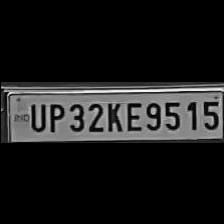1: (182, 96, 198, 130)
2: (84, 98, 104, 132)
3: (64, 99, 84, 131)
5: (160, 96, 182, 130), (198, 95, 220, 129)
9: (142, 97, 162, 129)
E: (122, 97, 142, 131)
K: (104, 98, 122, 132)
P: (44, 100, 64, 132)
U: (25, 99, 45, 131)
